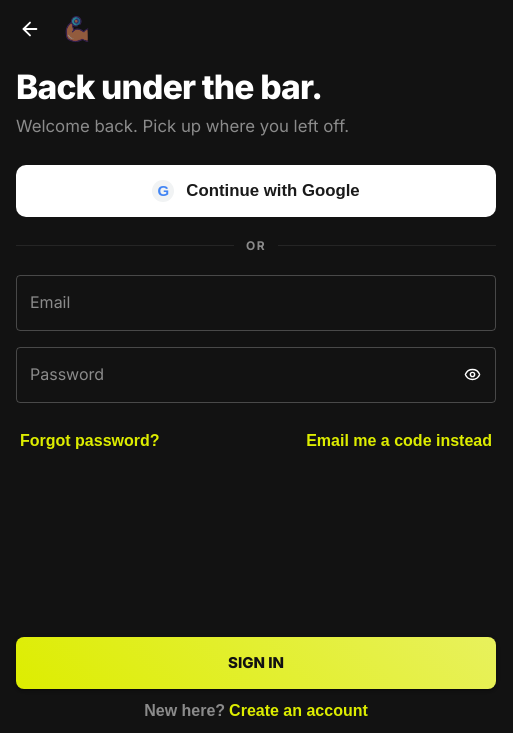
MobileAuth sign in › puts a wrong password on the password field and clears it
Type "dev@example.com" into the field labelled "Email". click: (256, 303)
box: [16,275,496,331]
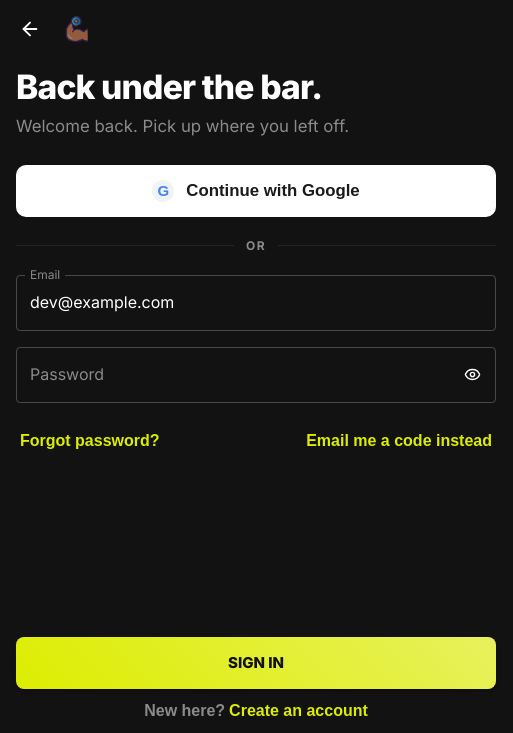
Type "nope" into the password field labelled "Password". click: (233, 375)
box: [16,347,450,403]
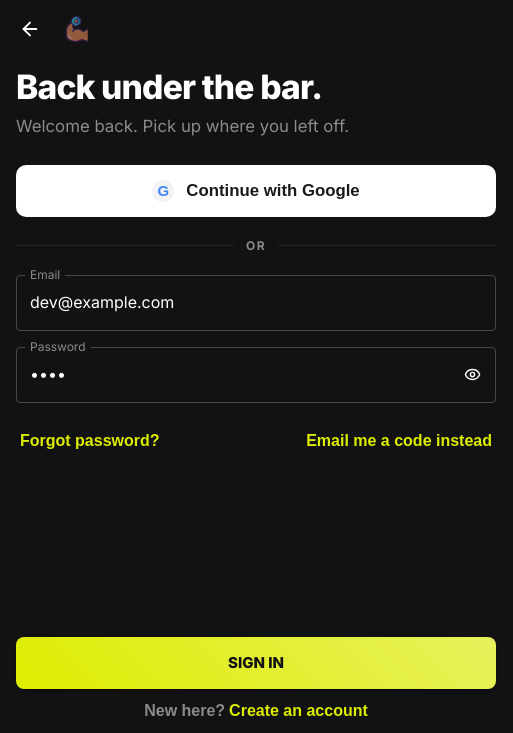
Click the button "Sign in". click: (256, 663)
box: [16,637,496,689]
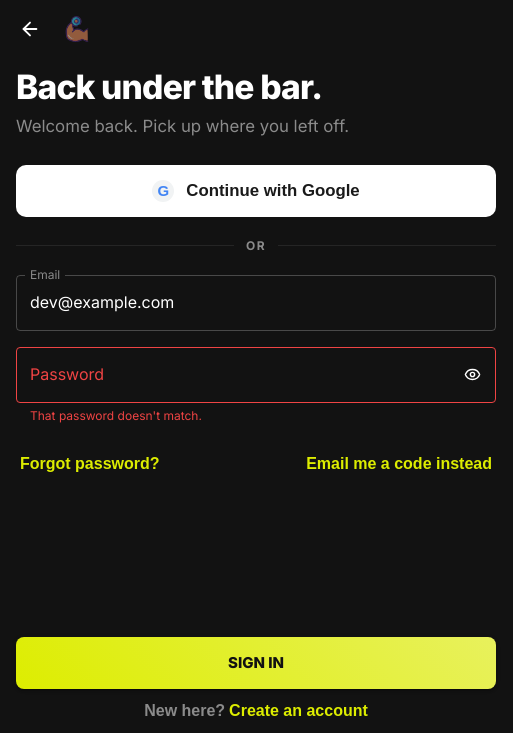
Expected: the text "That password doesn't match." is shown, [30,408,202,423]
Expected: the password field labelled "Password" is empty, [16,347,450,403]
